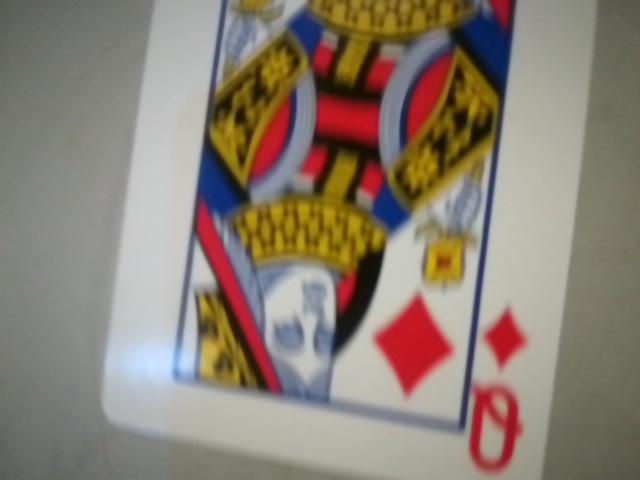fk q: (460, 298, 547, 480)
